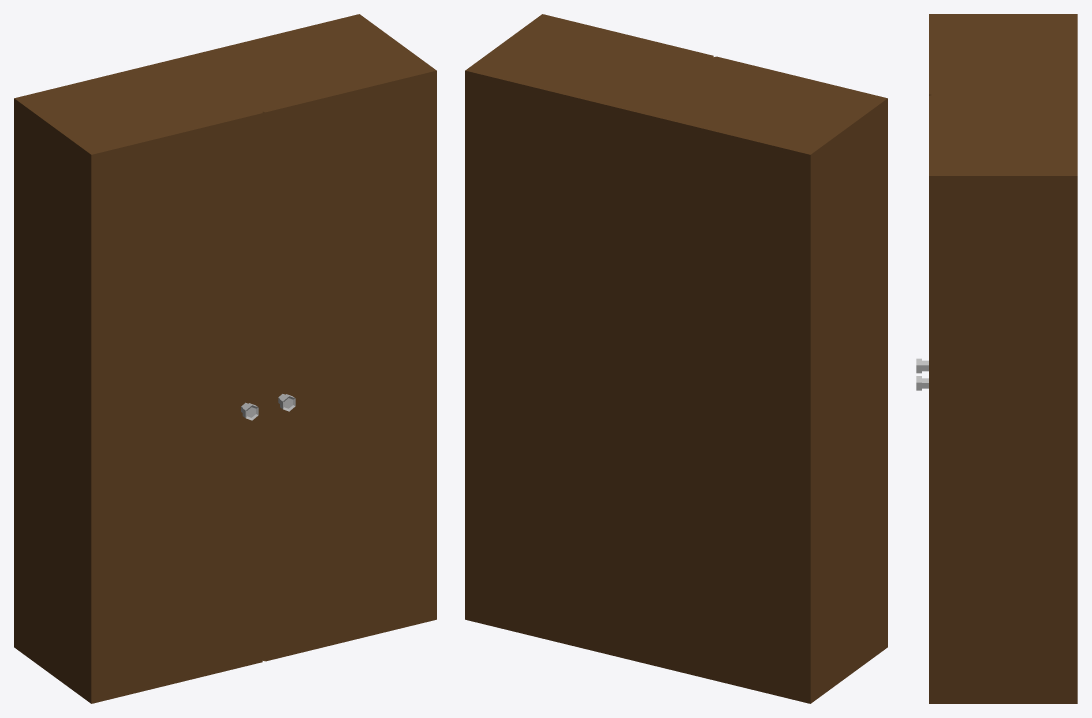
File: closet.fbx
3 views of the same model, side by side, from view 1: azimuth 30°, elevation 25°; view 2: azimuth 150°, elevation 25°; view 3: azimuth 270°, elevation 25° (orthographic). The views are drawn at different scales.
Visible parts, largest first — view 1: Cube.009; view 2: Cube.009; view 3: Cube.009.
Part boxes in pixels (x1,y1,x2,y2): Cube.009: [14, 14, 436, 703]; Cube.009: [465, 14, 887, 703]; Cube.009: [916, 14, 1077, 703].
Size of the model in its own units: 158 by 240 by 66.5.
